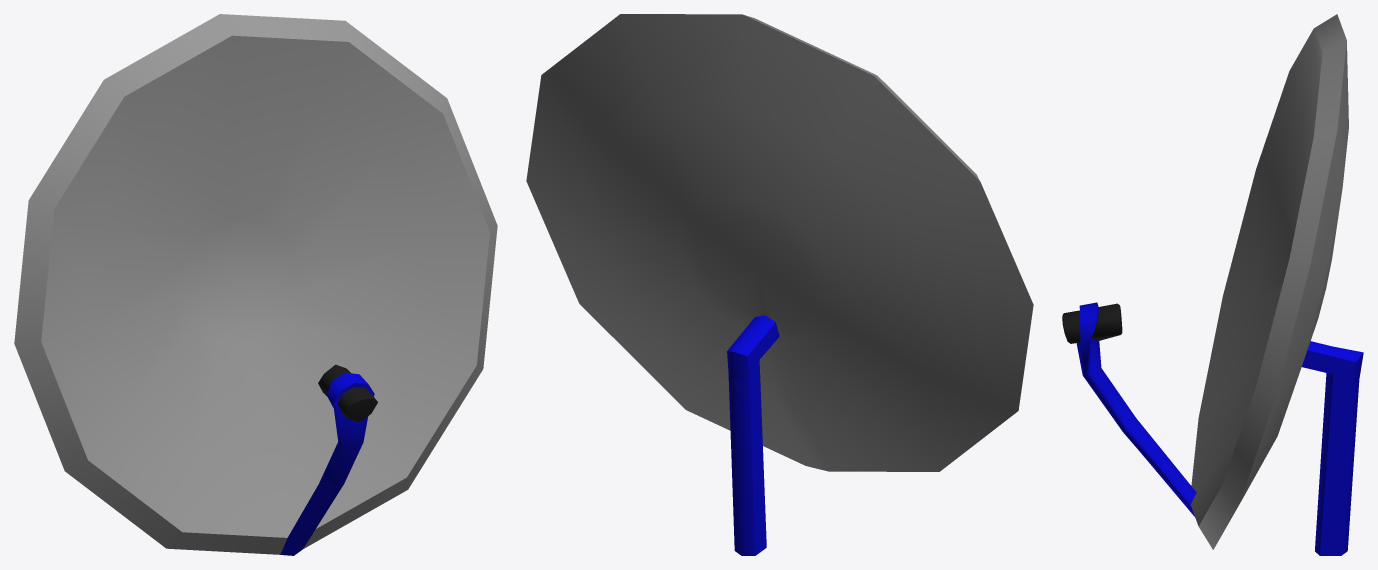
Rendered from sattelitedish.fbx.
3 renders of one model, left to right at view 1: azimuth 30°, elevation 25°; view 2: azimuth 150°, elevation 25°; view 3: azimuth 270°, elevation 25°, orthographic. The views are drawn at different scales.
Parts seen in each view (by area): view 1: pCylinder1; view 2: pCylinder1; view 3: pCylinder1.
Boxes of the visible parts, x1,y1,x2,y2 form: pCylinder1: (14, 14, 497, 555); pCylinder1: (526, 14, 1033, 555); pCylinder1: (1062, 14, 1363, 555).
Bounding box in the file's own units: 66.23 × 67.53 × 36.1.
